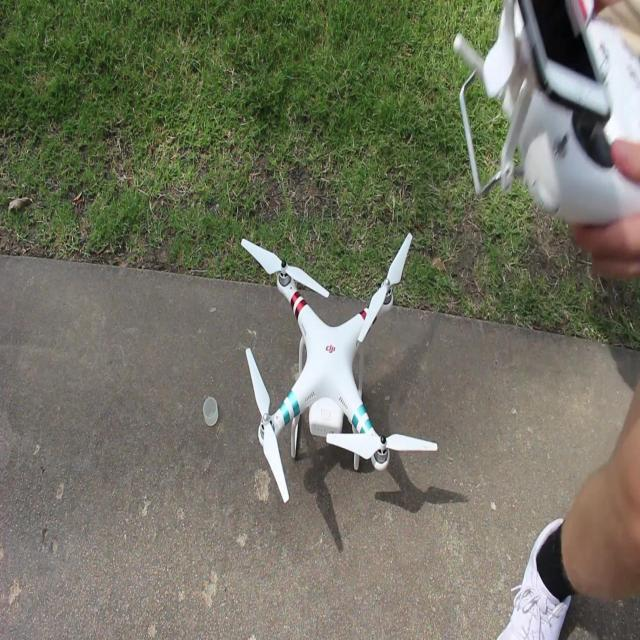drones: (213, 207, 452, 518)
